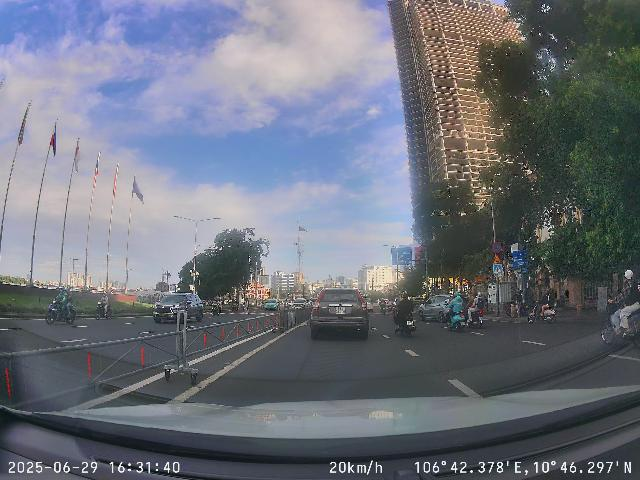130-cam-dung-va-do-xe: (492, 242, 502, 253)
221-duong-go-ghe: (493, 254, 502, 264)
423a-duong-nguoi-di-bo-sang-ngang-1: (493, 264, 502, 274)
